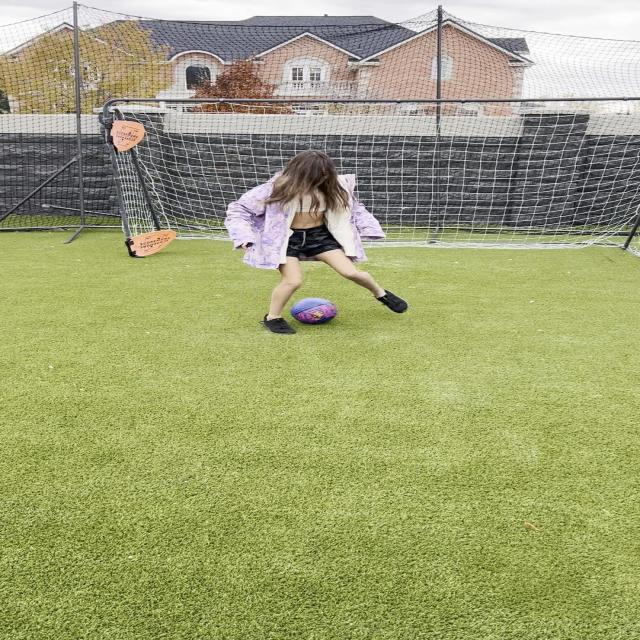Soccer Ball: (289, 297, 337, 325)
